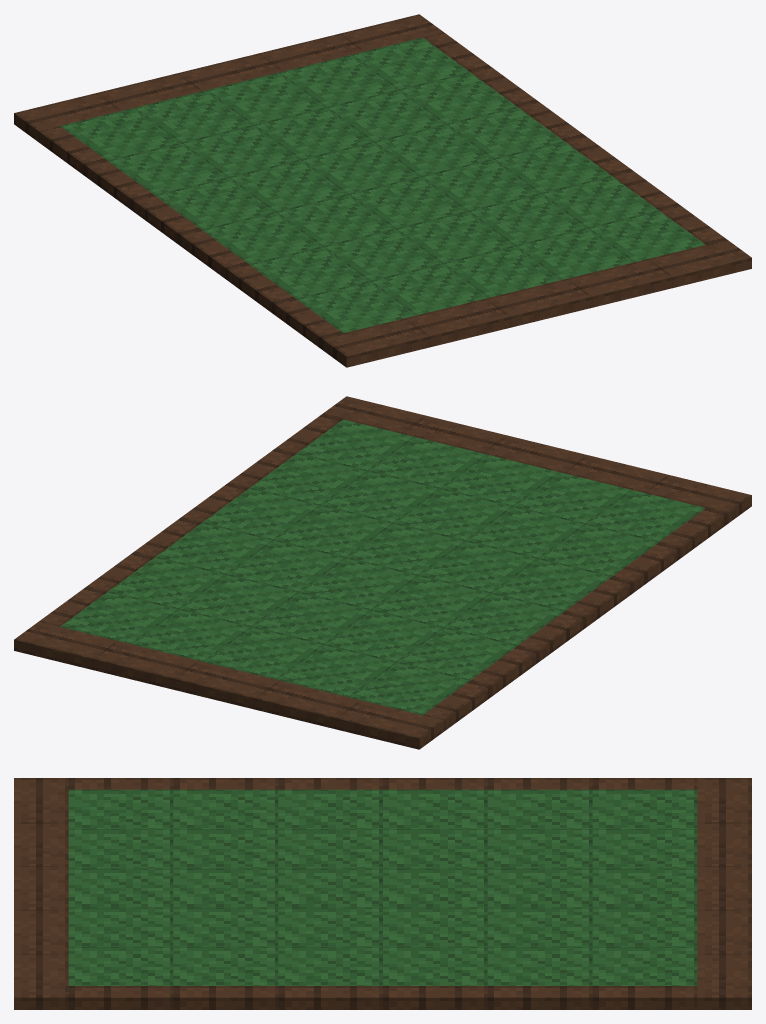
The model's file is corridorCarpet_2.glb.
3 renders of one model, top to bottom at view 1: azimuth 30°, elevation 25°; view 2: azimuth 150°, elevation 25°; view 3: azimuth 270°, elevation 25°, orthographic. The views are drawn at different scales.
Visible parts, largest first — view 1: corridorCarpet_2; view 2: corridorCarpet_2; view 3: corridorCarpet_2.
Part boxes in pixels (bbox=[...]): corridorCarpet_2: bbox=[14, 14, 751, 367]; corridorCarpet_2: bbox=[14, 396, 751, 749]; corridorCarpet_2: bbox=[14, 778, 751, 1009].
Bounding box in the file's own units: 2.38 × 0.0625 × 3.38.
1 material, 1 textured.
